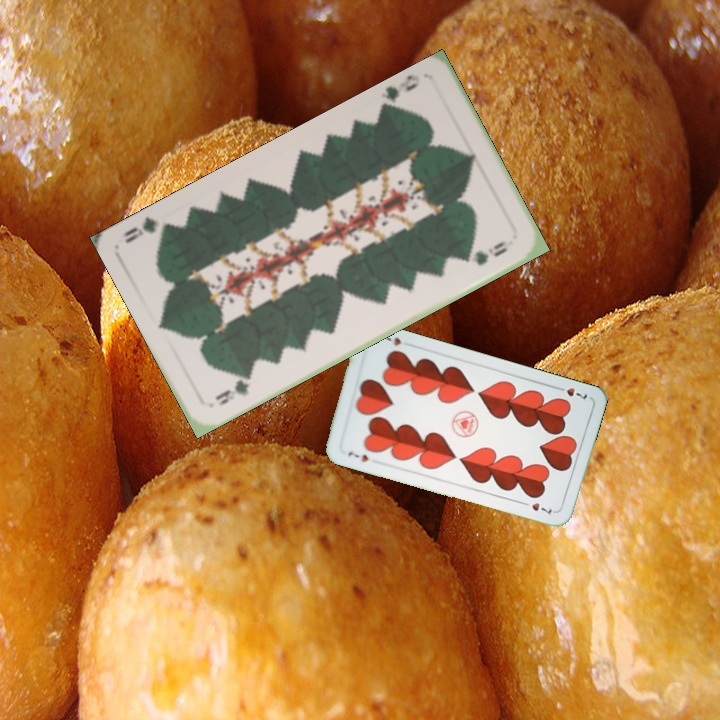G9: (377, 71, 423, 111), (211, 369, 256, 409)
H7: (552, 382, 590, 402), (344, 448, 371, 465)
